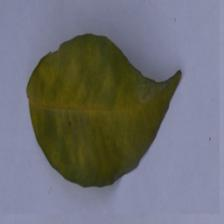greening: (18, 46, 130, 158)
